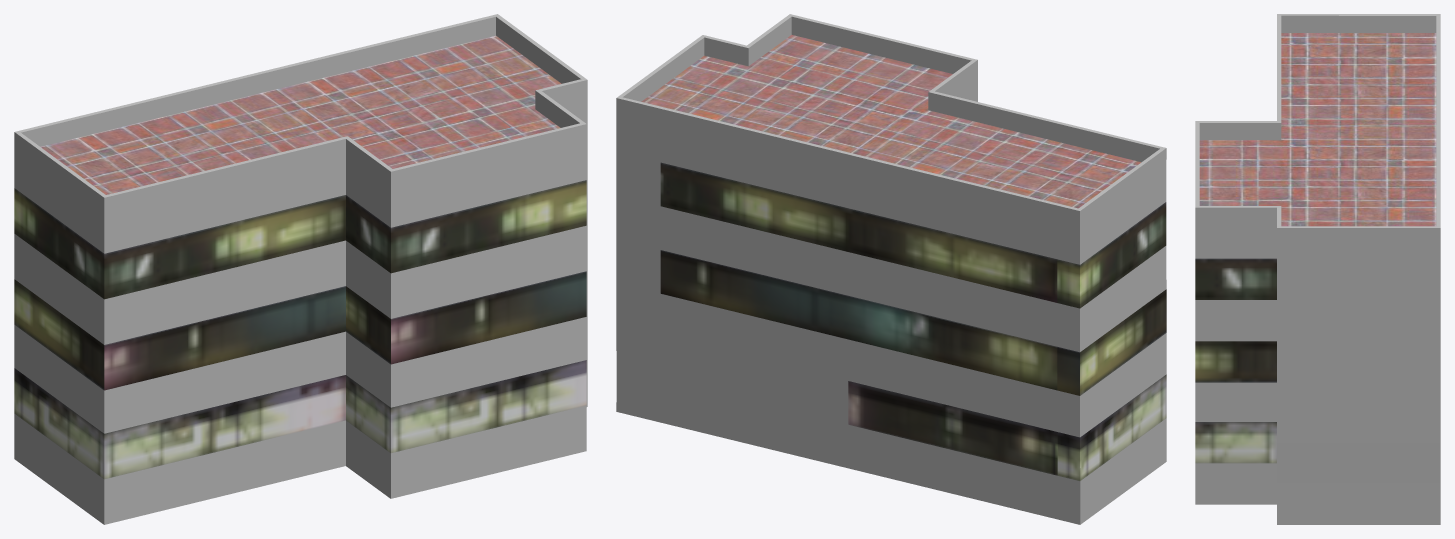
File: hirise_parts07_3f.fbx
3 renders of one model, left to right at view 1: azimuth 30°, elevation 25°; view 2: azimuth 150°, elevation 25°; view 3: azimuth 270°, elevation 25°, orthographic. The views are drawn at different scales.
Visible parts, largest first — view 1: hirise_parts07_3f; view 2: hirise_parts07_3f; view 3: hirise_parts07_3f.
Part boxes in pixels (left/top/right/bottom): hirise_parts07_3f: left=14, top=14, right=587, bottom=524; hirise_parts07_3f: left=616, top=14, right=1166, bottom=524; hirise_parts07_3f: left=1195, top=14, right=1440, bottom=524.
Size of the model in its own units: 17.68 by 11.43 by 8.55.
